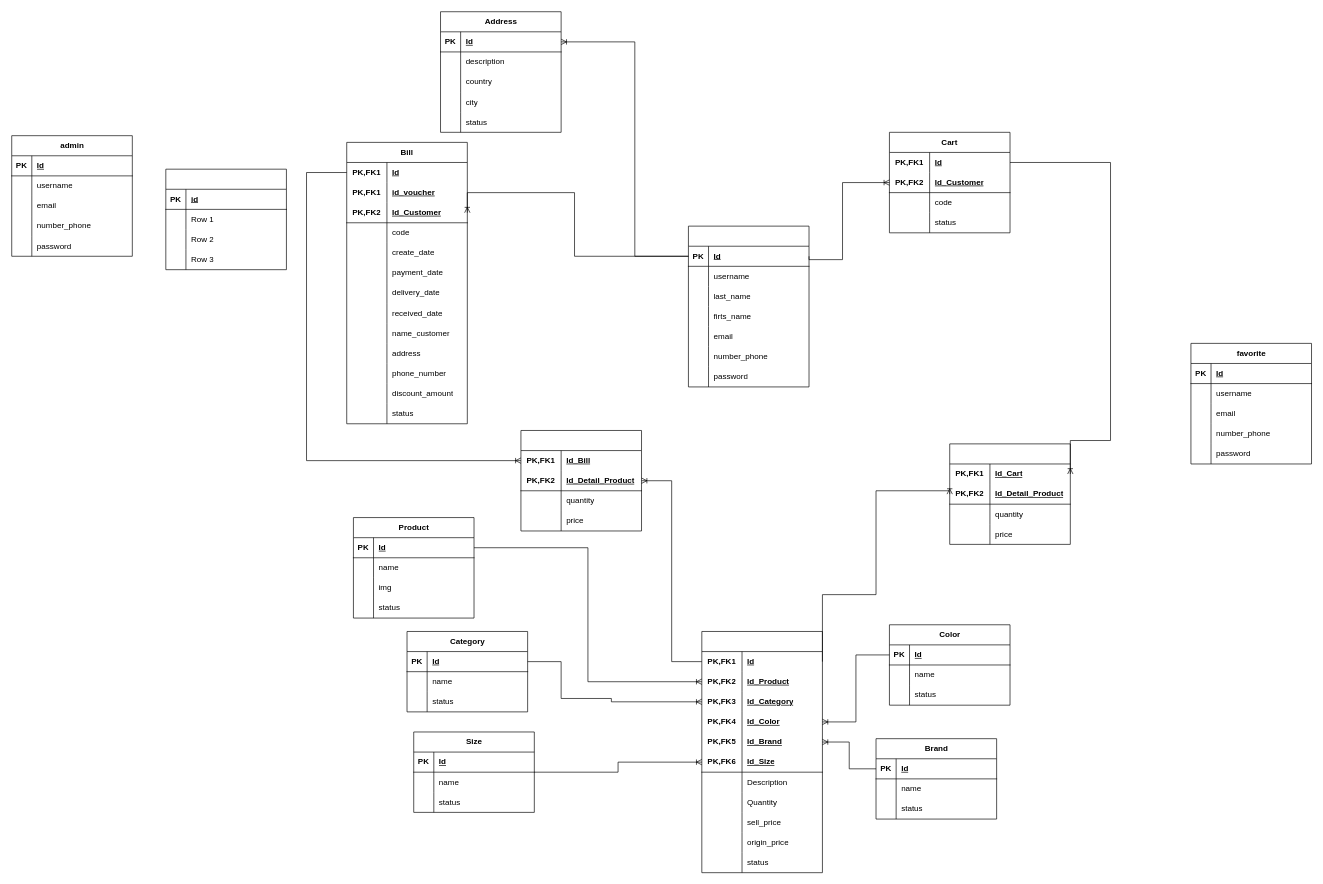
This 1323x884 diagram has some shape labels left out. Here are the shapes that lost their labels. From the top down, the box of each, then its label:
(165, 169, 286, 270): voucher
(688, 225, 809, 387): Customer
(520, 430, 642, 531): Detail_Bill
(949, 443, 1070, 544): Detail_Cart
(701, 631, 822, 873): Detail_Product
